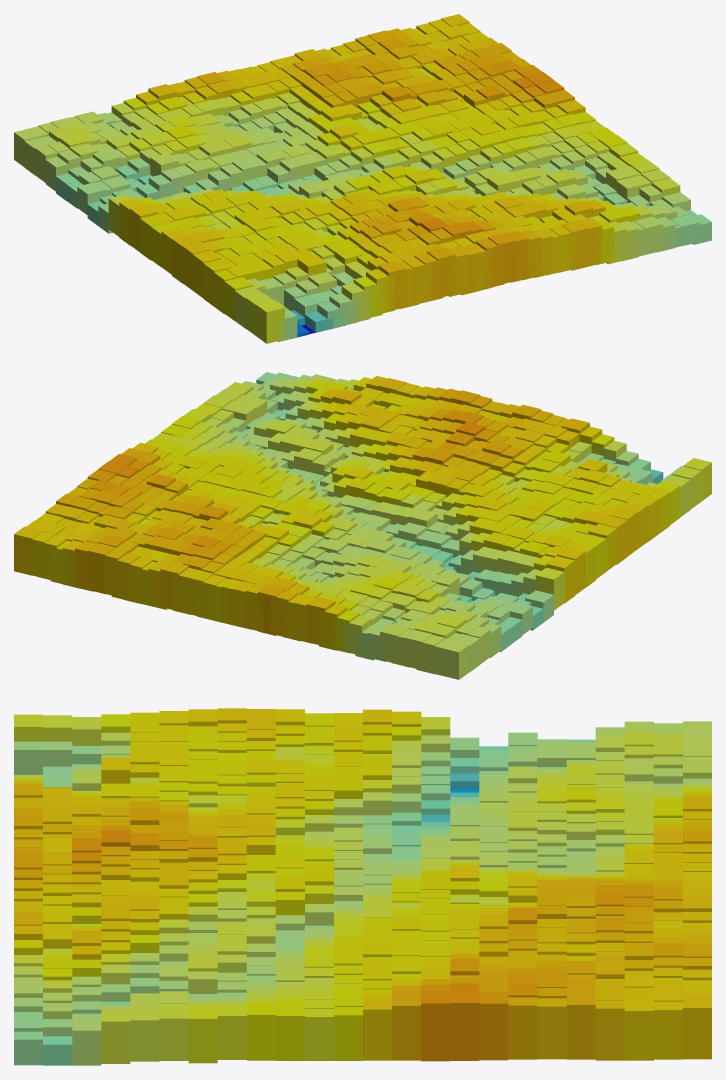
File: population.glb
3 renders of one model, top to bottom at view 1: azimuth 30°, elevation 25°; view 2: azimuth 150°, elevation 25°; view 3: azimuth 270°, elevation 25°, orthographic. The views are drawn at different scales.
Visible parts, largest first — view 1: population; view 2: population; view 3: population.
Part boxes in pixels (left/top/right/bottom): population: left=14, top=14, right=711, bottom=343; population: left=14, top=372, right=711, bottom=679; population: left=14, top=708, right=711, bottom=1065.
Bounding box in the file's own units: 2438 × 256 × 2398.
